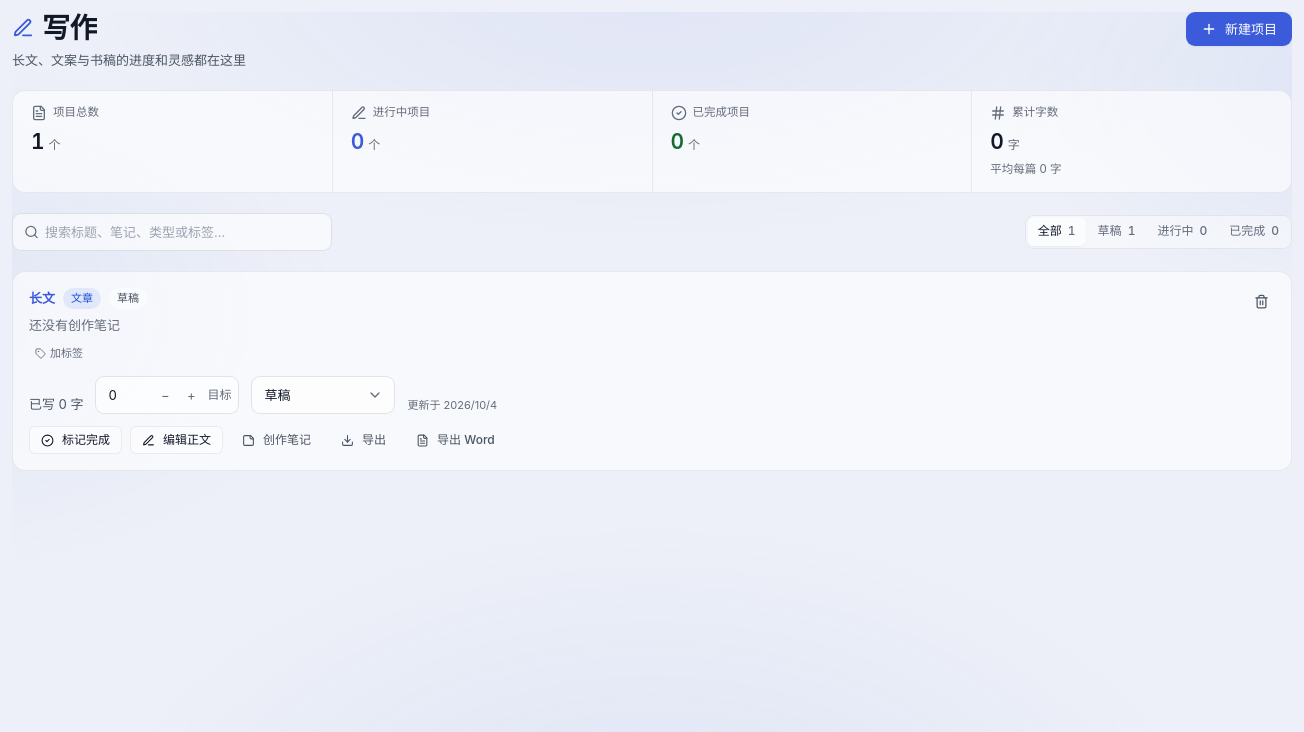
WritingPage › 字数是只读展示（由正文自动统计），可以改目标字数、状态与一键标记完成
Expected: the text "已写 0 字" is shown, [29,394,83,414]
Step 1. Replace the text in the number field named "「长文」的目标字数" with "10000" → (167, 395), box [95,376,239,414]
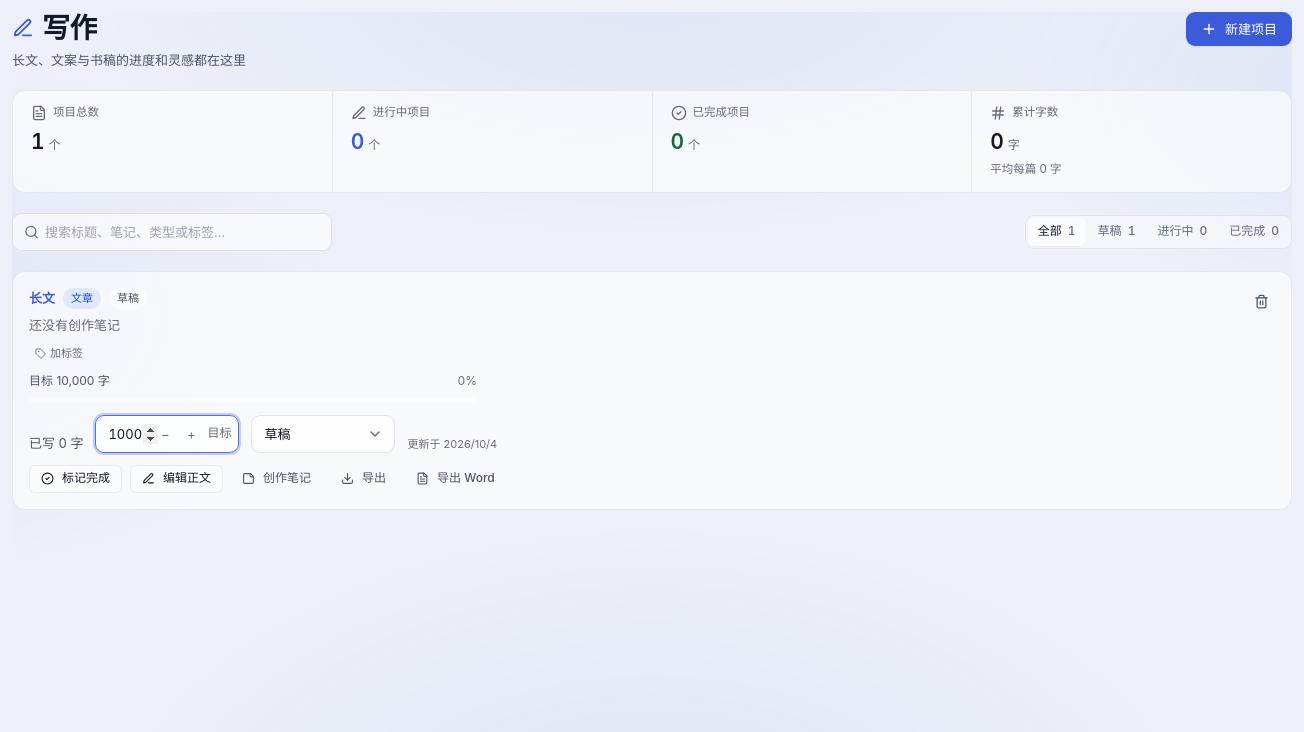
Step 2. Select "进行中" in the dropdown named "调整「长文」的状态" → (323, 434), box [251,415,395,453]
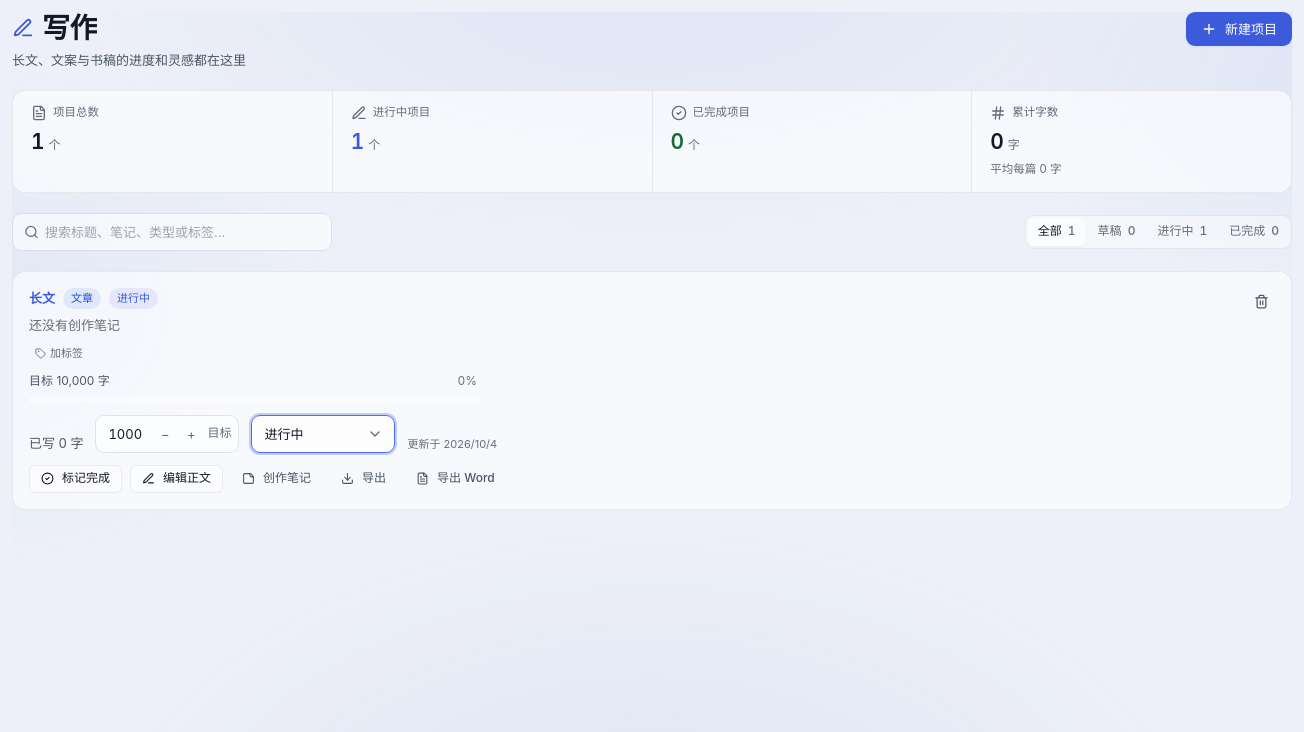
Step 3. Click the button "标记完成" → click(76, 479), box [29,465,122,493]
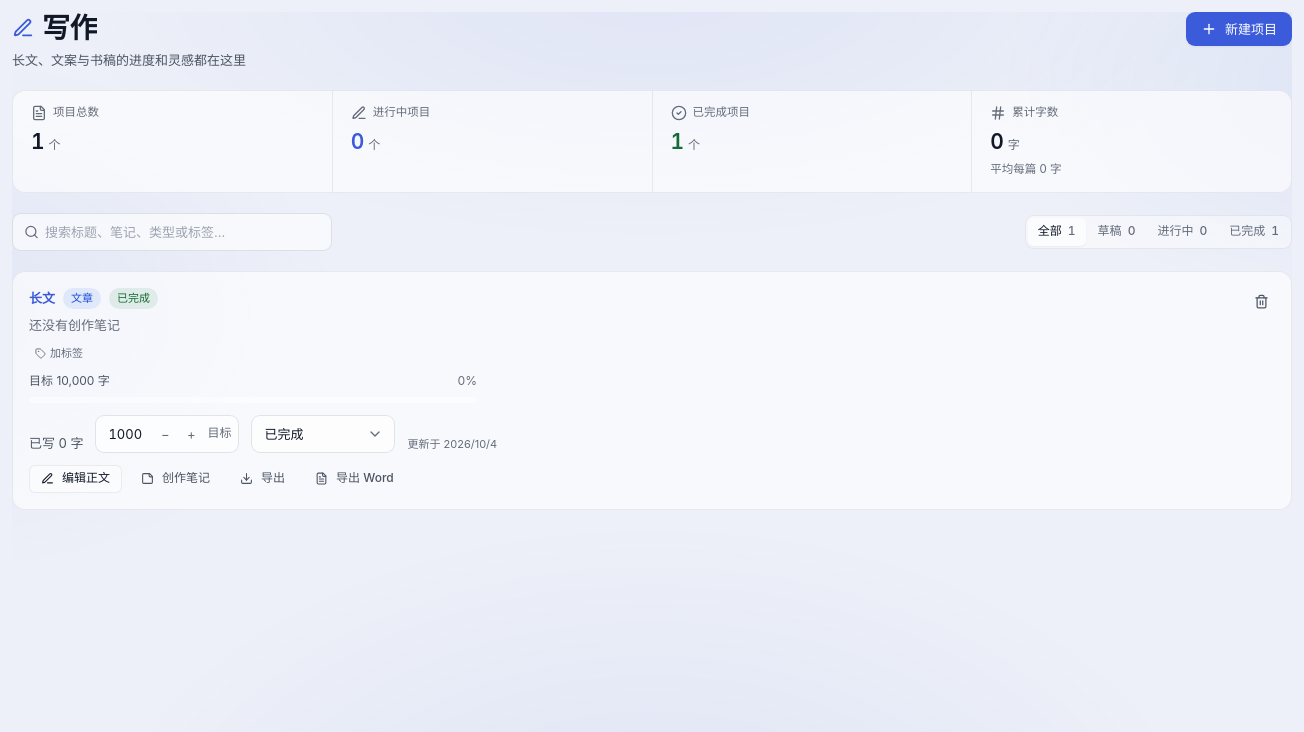
Expected: the button "标记完成" is gone
